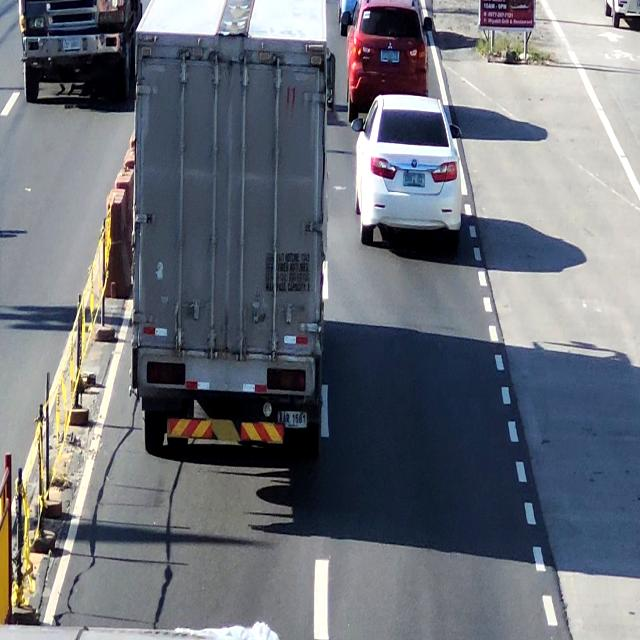Car: (356, 98, 463, 252), (350, 0, 430, 111)
License-Plate: (276, 403, 308, 433), (402, 168, 428, 190), (380, 46, 401, 67)
Truck: (134, 0, 324, 460)
